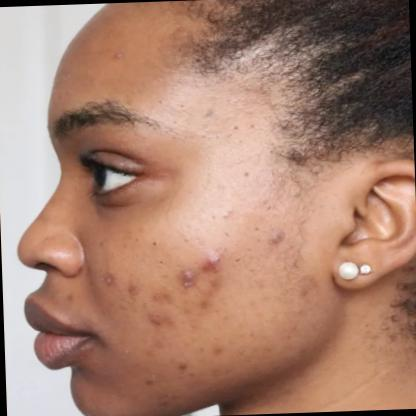Acne: (200, 250, 228, 275)
